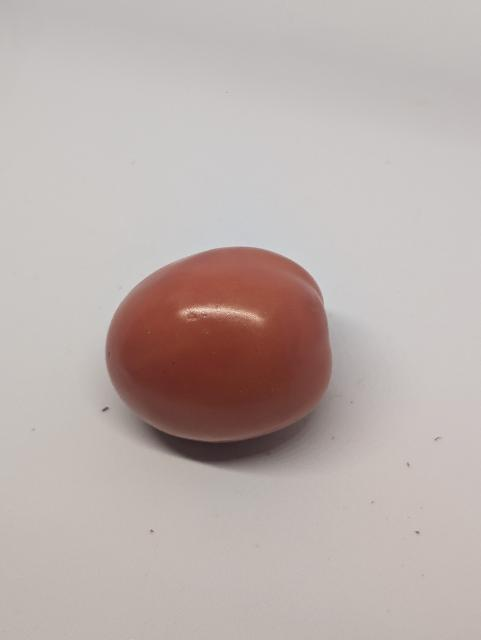red: (98, 236, 352, 464)
